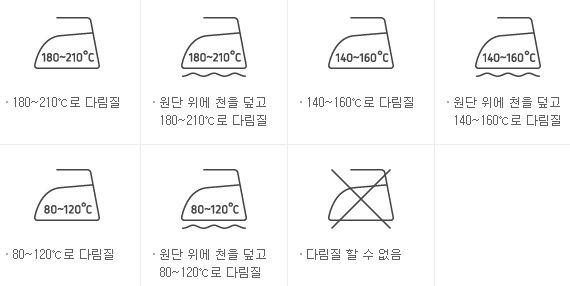do_not_iron: (327, 164, 395, 230)
